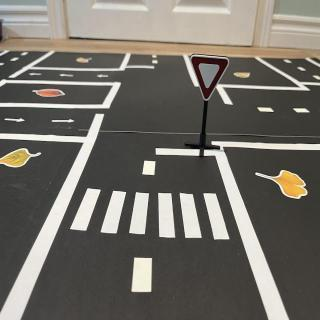road_crosswalk: (65, 183, 236, 243)
road_oneway: (48, 116, 76, 126), (2, 115, 26, 125), (29, 71, 45, 79), (61, 73, 76, 81), (96, 73, 111, 80)
sign_yield: (194, 56, 230, 102)
